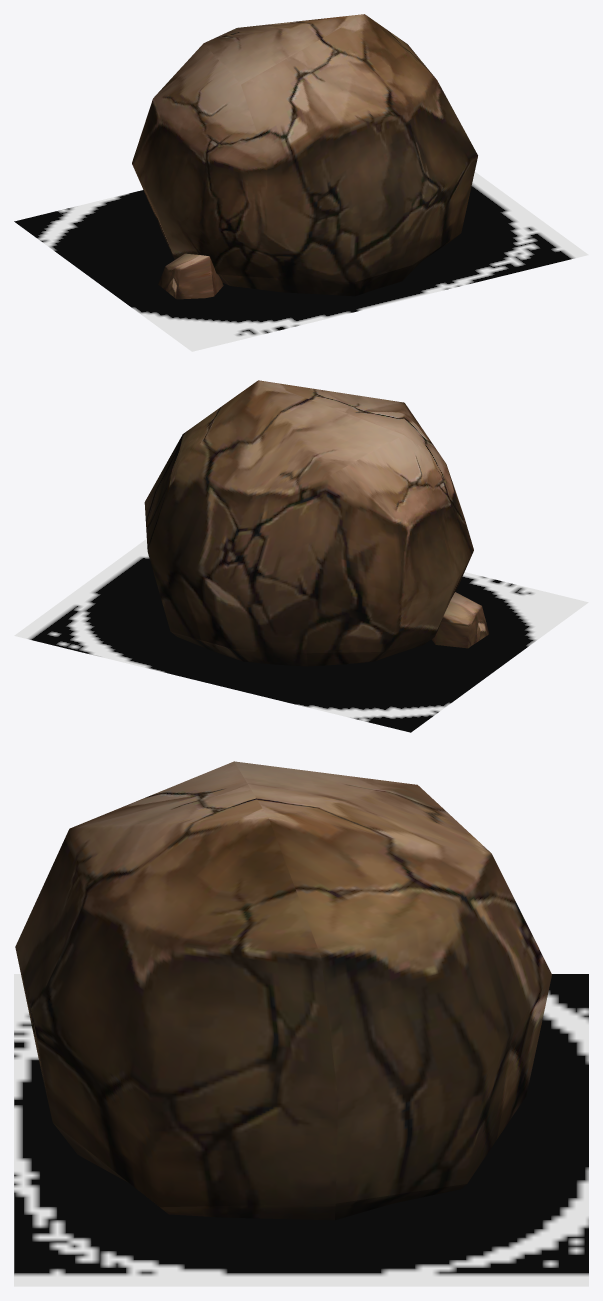
The model's file is Gimmick_Dungeon_BreakStone001.fbx.
3 views of the same model, one above another, from view 1: azimuth 30°, elevation 25°; view 2: azimuth 150°, elevation 25°; view 3: azimuth 270°, elevation 25° (orthographic). The views are drawn at different scales.
Parts seen in each view (by area): view 1: Dungeon_BreakStorn001, gimmick_shadow; view 2: Dungeon_BreakStorn001, gimmick_shadow; view 3: Dungeon_BreakStorn001, gimmick_shadow.
Part boxes in pixels (left/top/right/bottom): Dungeon_BreakStorn001: left=132, top=14, right=477, bottom=299; gimmick_shadow: left=14, top=171, right=588, bottom=351; Dungeon_BreakStorn001: left=144, top=380, right=488, bottom=666; gimmick_shadow: left=14, top=539, right=588, bottom=732; Dungeon_BreakStorn001: left=15, top=761, right=551, bottom=1220; gimmick_shadow: left=14, top=974, right=588, bottom=1286.
Bounding box in the file's own units: 3.15 × 1.77 × 2.44.
